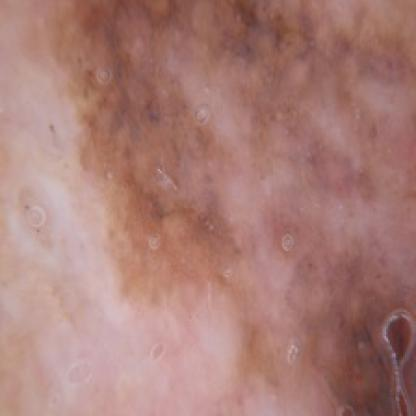malignant: (67, 9, 388, 288)
